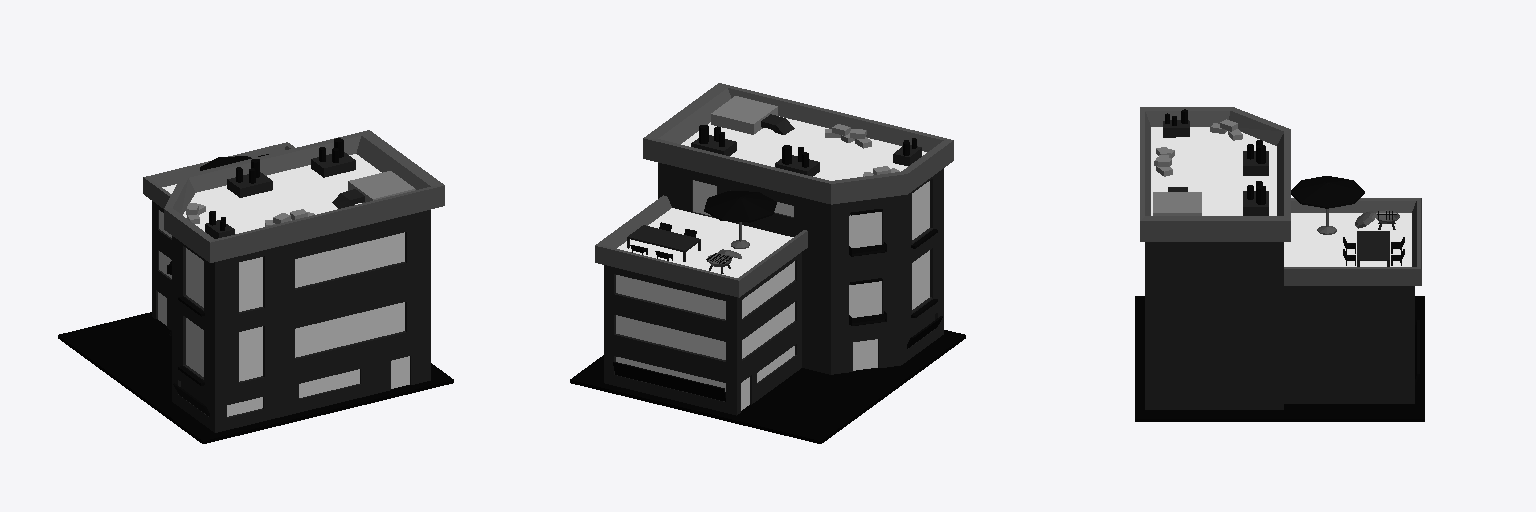
The model's file is building3.obj.
3 renders of one model, left to right at view 1: azimuth 30°, elevation 25°; view 2: azimuth 150°, elevation 25°; view 3: azimuth 270°, elevation 25°, orthographic.
Parts seen in each view (by area): view 1: Batiment_1, Batiment_2, Batiment_0, RES_T3_16_WEILL_01_0, Batiment_5, Batiment_3, Batiment_4; view 2: Batiment_1, Batiment_2, Batiment_0, RES_T3_16_WEILL_01_0, Batiment_5, Batiment_3, Batiment_4; view 3: Batiment_1, Batiment_2, Batiment_5, RES_T3_16_WEILL_01_0, Batiment_3, Batiment_4.
Boxes of the visible parts, box(x1,y1,x2,y2) form: Batiment_1: box(152, 152, 430, 432); Batiment_2: box(143, 130, 444, 262); Batiment_0: box(158, 210, 409, 416); RES_T3_16_WEILL_01_0: box(58, 312, 453, 443); Batiment_5: box(162, 154, 381, 233); Batiment_3: box(167, 138, 343, 416); Batiment_4: box(186, 171, 415, 226); Batiment_1: box(604, 114, 943, 415); Batiment_2: box(595, 83, 953, 297); Batiment_0: box(616, 180, 929, 410); RES_T3_16_WEILL_01_0: box(570, 330, 965, 443); Batiment_5: box(617, 116, 926, 277); Batiment_3: box(613, 125, 942, 401); Batiment_4: box(711, 96, 899, 176); Batiment_1: box(1145, 120, 1414, 409); Batiment_2: box(1140, 107, 1421, 285); Batiment_5: box(1151, 127, 1411, 266); RES_T3_16_WEILL_01_0: box(1135, 296, 1424, 421); Batiment_3: box(1165, 109, 1419, 384); Batiment_4: box(1153, 119, 1242, 215).
Bounding box in the file's own units: 17.29 × 13.75 × 17.29.